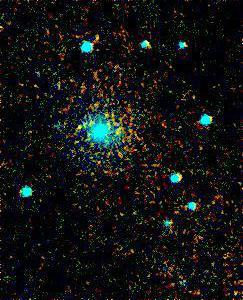star: (66, 113, 96, 143)
